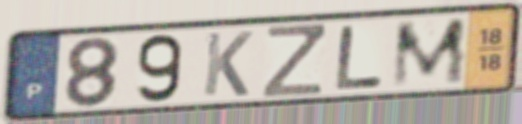8: (64, 35, 121, 110)
9: (134, 32, 184, 104)
K: (200, 29, 256, 98)
L: (333, 23, 388, 92)
M: (388, 14, 469, 91)
Z: (260, 23, 328, 100)
